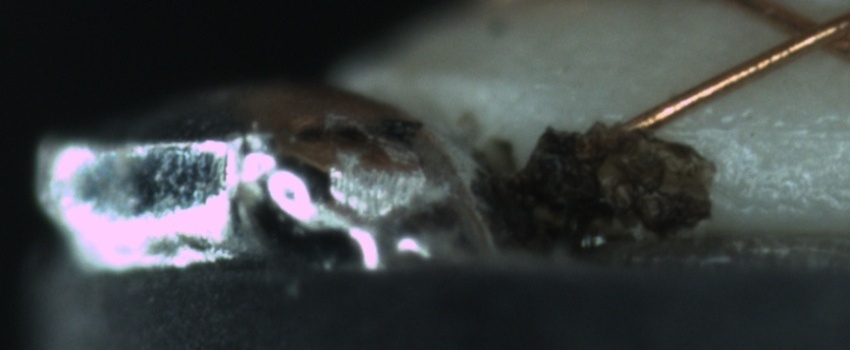CL: (763, 2, 848, 63)
DL: (673, 99, 849, 160)
